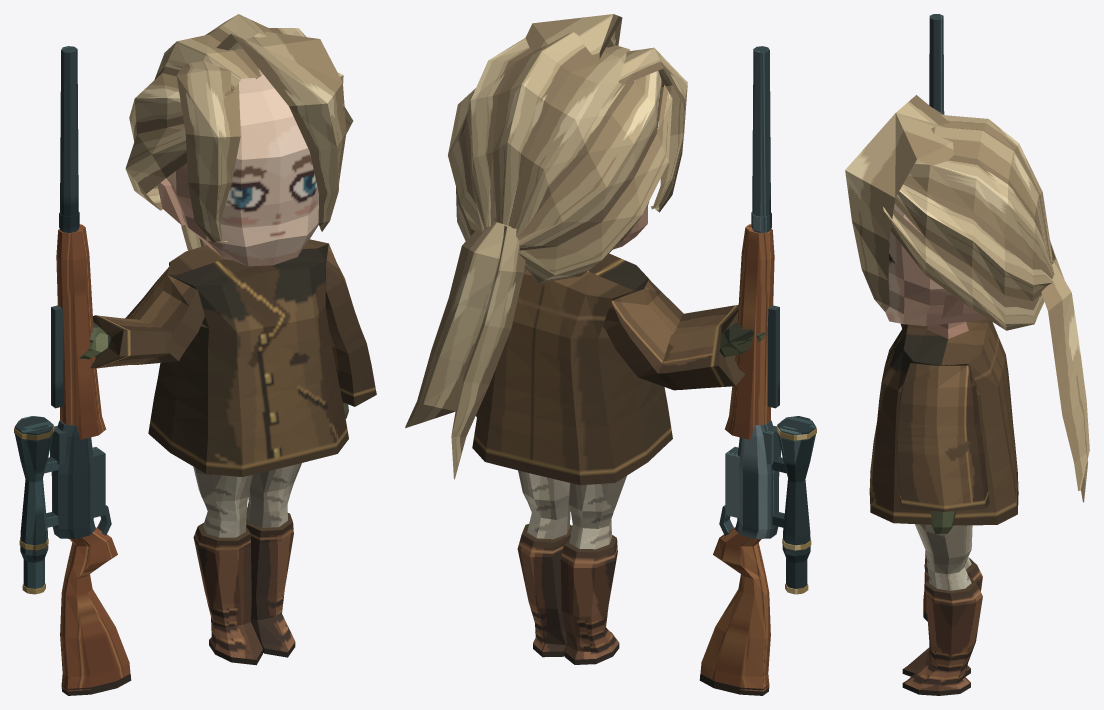
The model's file is markswoman-pixel-v01.obj.
3 views of the same model, side by side, from view 1: azimuth 30°, elevation 25°; view 2: azimuth 150°, elevation 25°; view 3: azimuth 270°, elevation 25° (orthographic). The views are drawn at different scales.
Bounding box in the file's own units: 1.67 × 2.91 × 1.11.
Materials: 1 (1 with a texture image).
